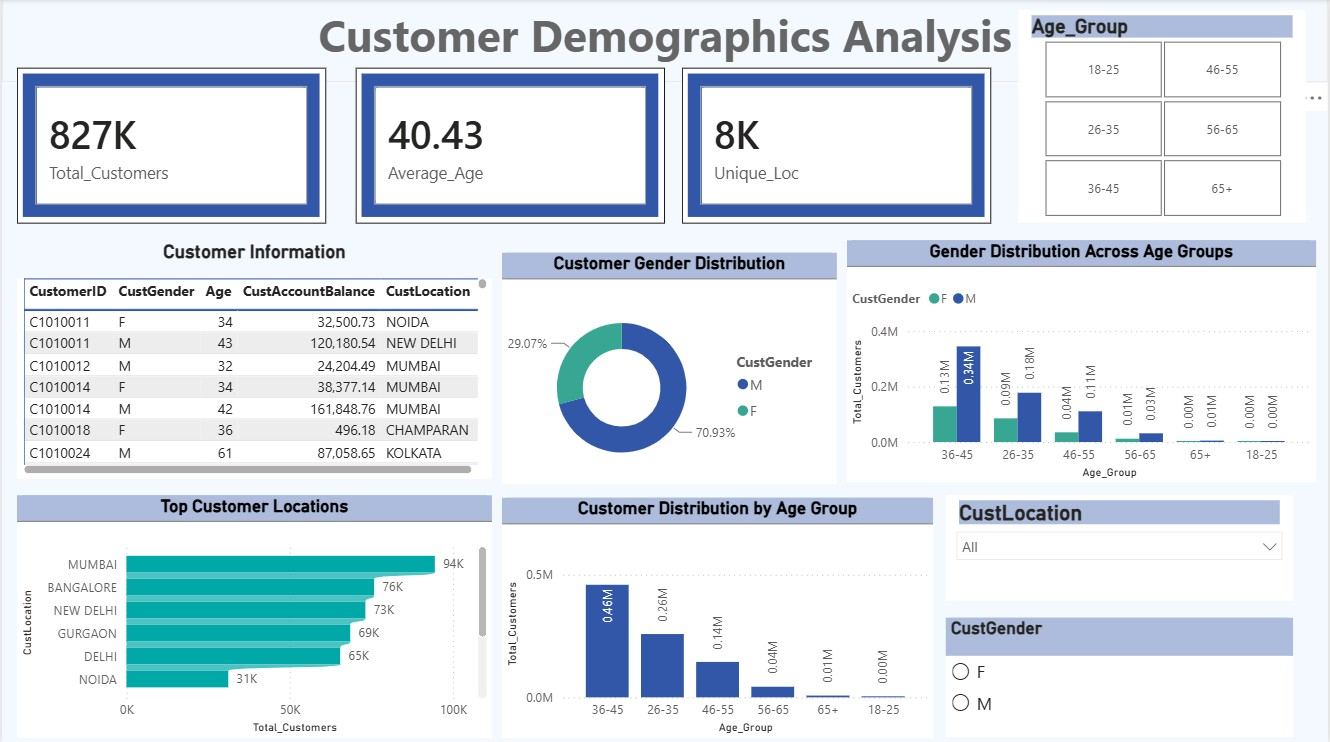

This screenshot's page, from the dashboard's own definition file:
{"tool":"powerbi","page":{"name":"Customer Demographics Analysis","canvas":[1280,720],"ordinal":0},"visuals":[{"type":"textbox","box":[0,0,1280.3,79.6],"z":0},{"type":"cardVisual","fields":{"Data":["bank_transactions.Total_Customers"]},"box":[15,66.2,298.8,150],"z":1000},{"type":"cardVisual","fields":{"Data":["bank_transactions.Average_Age"]},"box":[341.2,66.2,298.8,150],"z":2000},{"type":"donutChart","title":"Customer Gender Distribution","fields":{"Y":["bank_transactions.Total_Customers"],"Category":["bank_transactions.CustGender"]},"box":[482.6,244.9,323.3,223.2],"z":3000},{"type":"barChart","title":"Top Customer Locations","fields":{"Category":["bank_transactions.CustLocation"],"Y":["bank_transactions.Total_Customers"]},"box":[14.5,479,458.4,234],"z":4000},{"type":"clusteredColumnChart","title":"Customer Distribution by Age Group","fields":{"Y":["bank_transactions.Total_Customers"],"Category":["bank_transactions.Age_Group"]},"box":[482.6,481.4,416.2,231.6],"z":5000},{"type":"clusteredColumnChart","title":"Gender Distribution Across Age Groups","fields":{"Series":["bank_transactions.CustGender"],"Category":["bank_transactions.Age_Group"],"Y":["bank_transactions.Total_Customers"]},"box":[815,232.5,452.5,233.8],"z":6000},{"type":"tableEx","title":"Customer Information","fields":{"Values":["bank_transactions.CustomerID","bank_transactions.CustGender","bank_transactions.Age","bank_transactions.CustAccountBalance","bank_transactions.CustLocation"]},"box":[14.5,232.8,458.4,230.4],"z":7000},{"type":"slicer","fields":{"Values":["bank_transactions.Age_Group"]},"box":[980.8,10.9,277.5,205.1],"z":8000},{"type":"listSlicer","fields":{"Values":["bank_transactions.CustGender"]},"box":[911.2,597.5,335,115],"z":9000},{"type":"slicer","fields":{"Values":["bank_transactions.CustLocation"]},"box":[911.2,478.8,335,101.2],"z":10000},{"type":"cardVisual","title":"Unique Location","fields":{"Data":["bank_transactions.Unique_Loc"]},"box":[656.2,66.2,298.8,150],"z":11000}]}

Visuals, with their boxes in screenshot pixels (x1, y1, x2, y2), scaled from the page's 1280x720 canvas onto the 1330x742 screenshot:
textbox: [x1=0, y1=0, x2=1329, y2=82]
cardVisual - bank_transactions.Total_Customers: [x1=16, y1=68, x2=326, y2=223]
cardVisual - bank_transactions.Average_Age: [x1=355, y1=68, x2=665, y2=223]
"Customer Gender Distribution" donutChart: [x1=501, y1=252, x2=837, y2=482]
"Top Customer Locations" barChart: [x1=15, y1=494, x2=491, y2=735]
"Customer Distribution by Age Group" clusteredColumnChart: [x1=501, y1=496, x2=934, y2=735]
"Gender Distribution Across Age Groups" clusteredColumnChart: [x1=847, y1=240, x2=1317, y2=481]
"Customer Information" tableEx: [x1=15, y1=240, x2=491, y2=477]
slicer - bank_transactions.Age_Group: [x1=1019, y1=11, x2=1307, y2=223]
listSlicer - bank_transactions.CustGender: [x1=947, y1=616, x2=1295, y2=734]
slicer - bank_transactions.CustLocation: [x1=947, y1=493, x2=1295, y2=598]
"Unique Location" cardVisual: [x1=682, y1=68, x2=992, y2=223]
